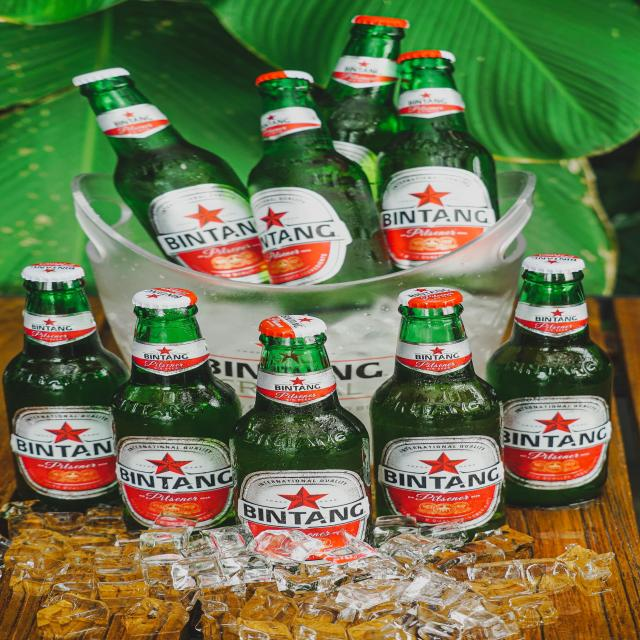Bottle: (74, 68, 267, 283), (370, 288, 505, 534), (231, 316, 371, 550), (487, 255, 612, 506), (113, 288, 241, 529), (4, 263, 128, 511), (249, 71, 392, 285), (379, 51, 499, 268), (322, 16, 409, 196)
